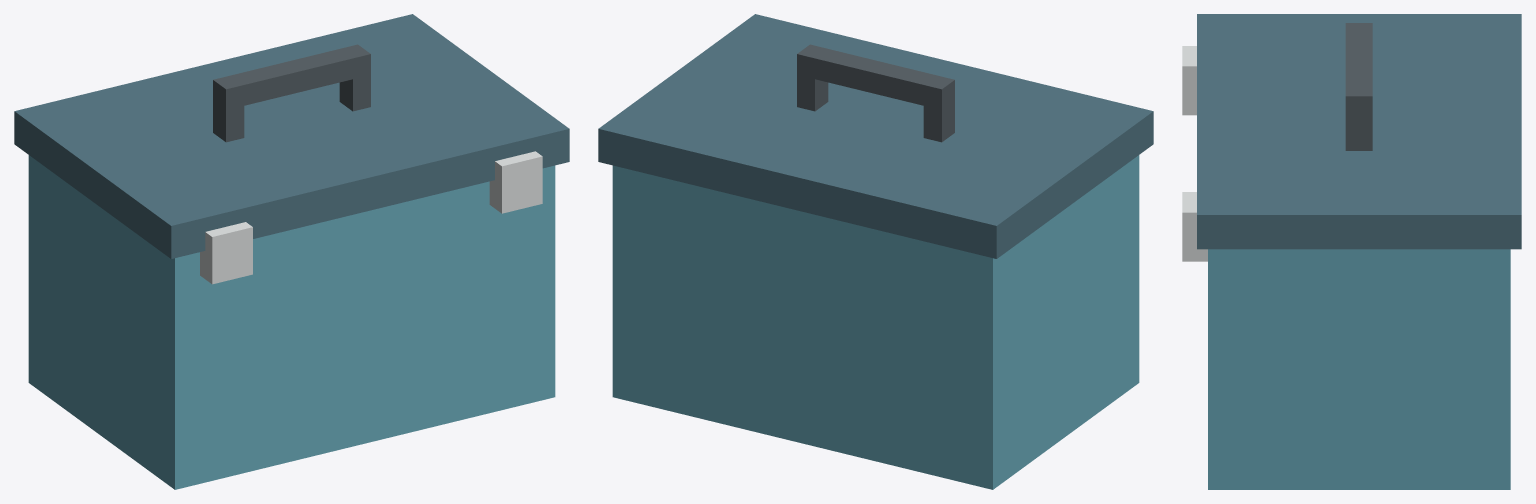
File: equipment-case.glb
3 renders of one model, left to right at view 1: azimuth 30°, elevation 25°; view 2: azimuth 150°, elevation 25°; view 3: azimuth 270°, elevation 25°, orthographic. The views are drawn at different scales.
Parts seen in each view (by area): view 1: equipment-case, lid, handle, latch0.16, latch-0.16, handle-leg-0.07, handle-leg0.07; view 2: equipment-case, lid, handle, handle-leg-0.07, handle-leg0.07; view 3: lid, equipment-case, handle, latch0.16, latch-0.16, handle-leg0.07.
Boxes of the visible parts, x1,y1,x2,y2 form: equipment-case: (28, 155, 555, 489); lid: (14, 14, 569, 258); handle: (213, 44, 370, 109); latch0.16: (489, 151, 542, 213); latch-0.16: (200, 222, 252, 284); handle-leg-0.07: (213, 100, 244, 142); handle-leg0.07: (339, 74, 370, 111); equipment-case: (612, 155, 1139, 489); lid: (598, 14, 1153, 258); handle: (797, 44, 954, 109); handle-leg-0.07: (923, 101, 954, 142); handle-leg0.07: (797, 74, 828, 111); lid: (1197, 14, 1521, 249); equipment-case: (1208, 249, 1510, 489); handle: (1345, 23, 1372, 117); latch0.16: (1182, 192, 1207, 261); latch-0.16: (1182, 46, 1196, 115); handle-leg0.07: (1345, 117, 1372, 150).
Size of the model in its own units: 0.44 by 0.341 by 0.3135.
